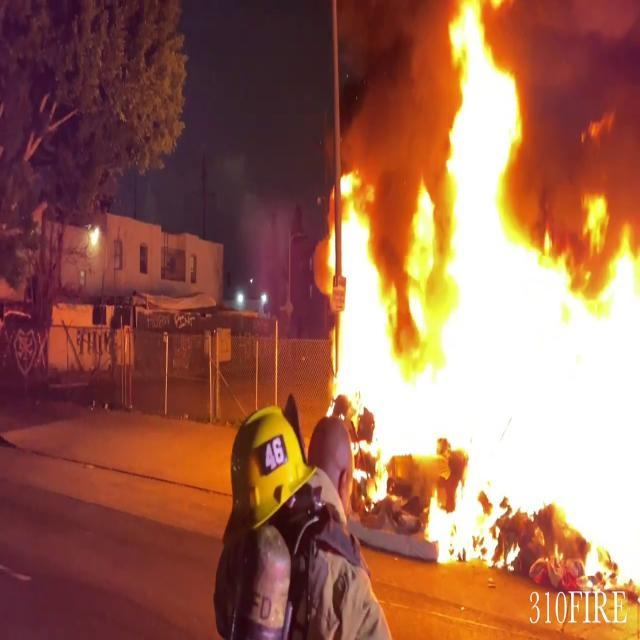Fire: (318, 1, 640, 586)
